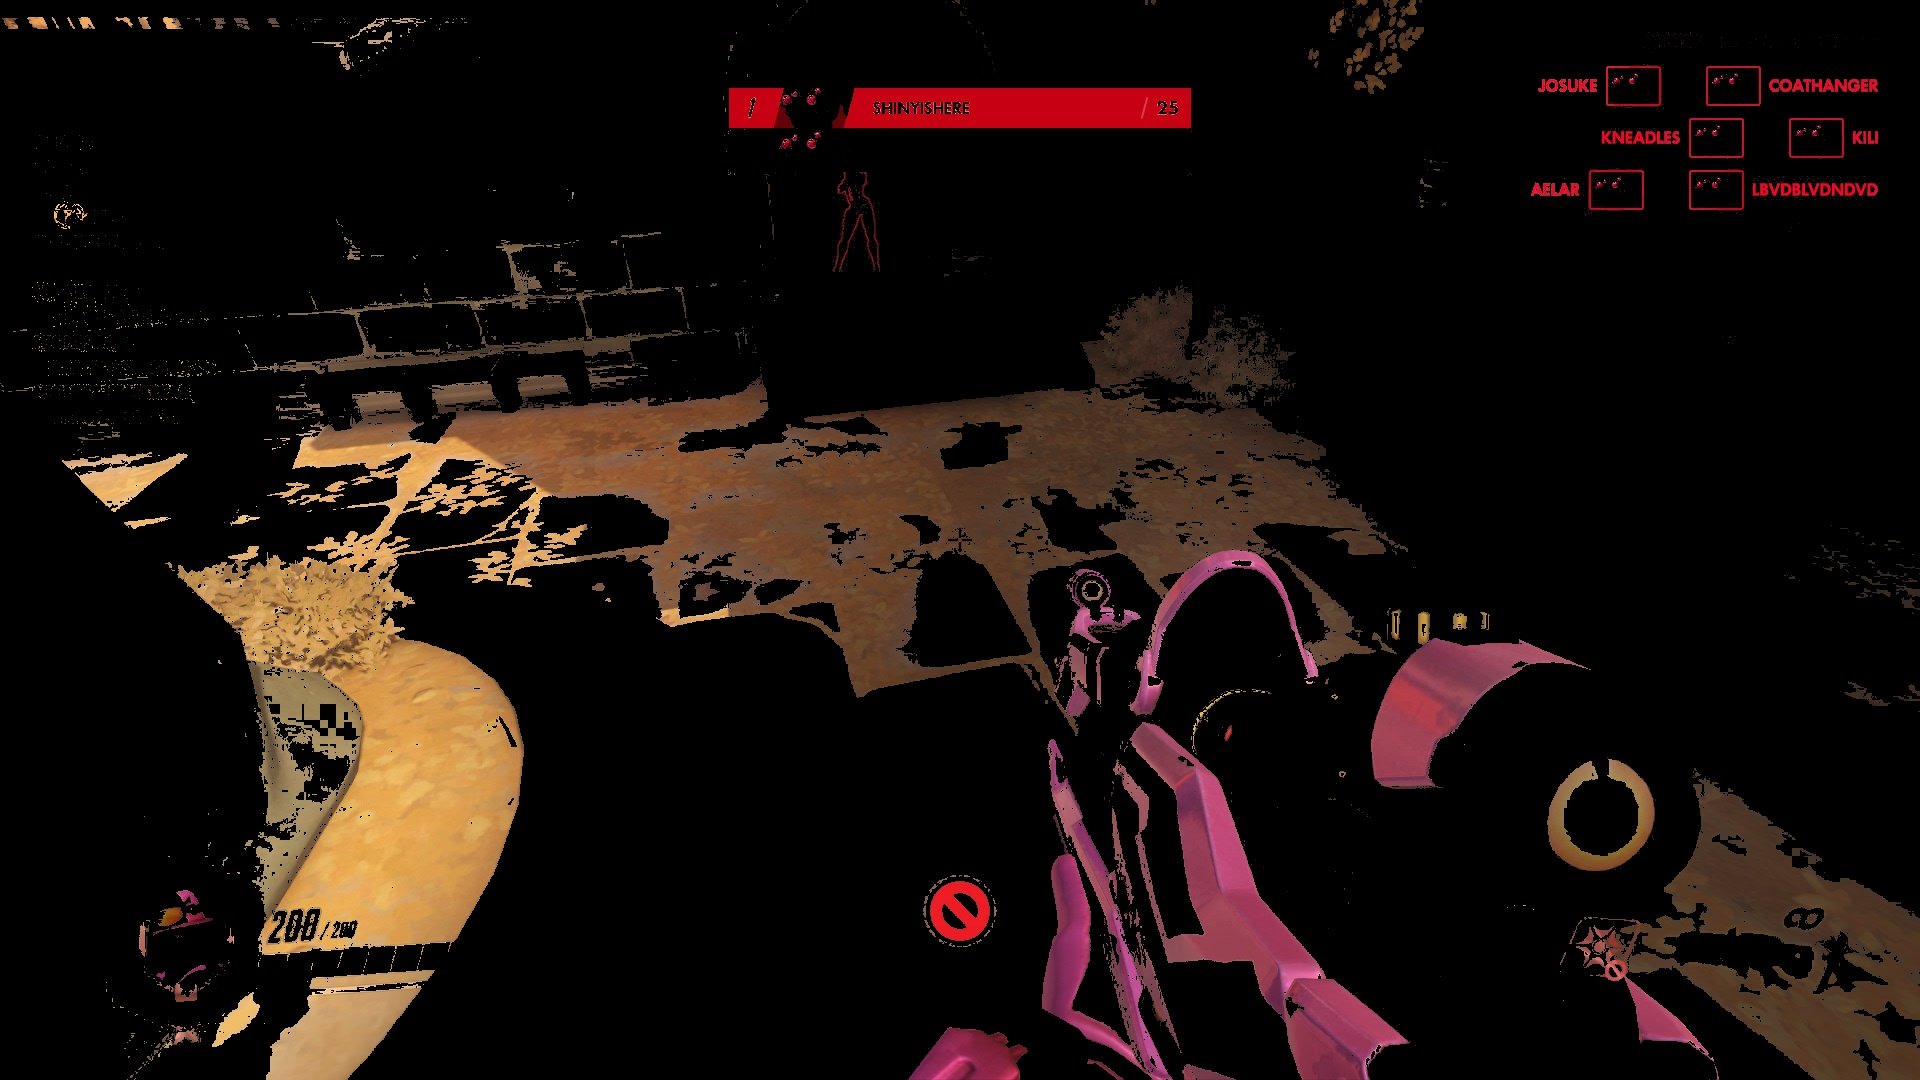widowmaker: (828, 171, 887, 282)
